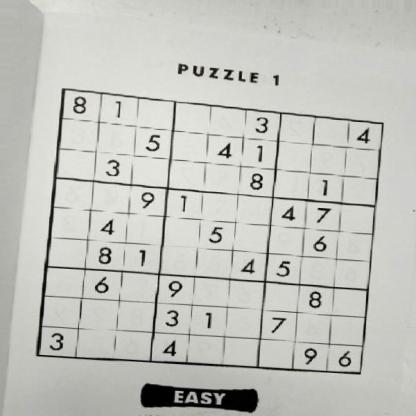sudoku: (34, 84, 386, 377)
